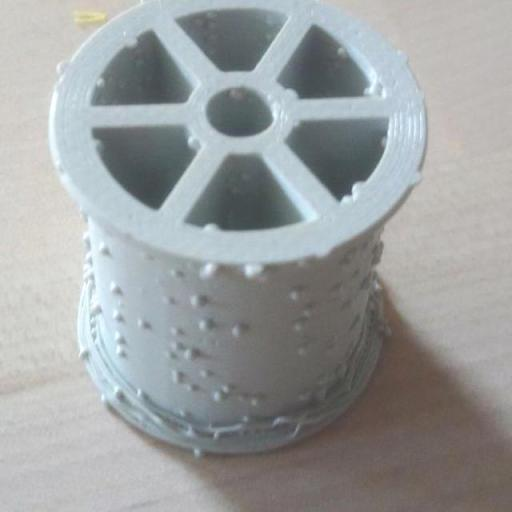blobs: (240, 256, 268, 279), (284, 284, 306, 304), (230, 317, 250, 337), (406, 170, 428, 188), (200, 261, 223, 278), (205, 388, 226, 406), (194, 318, 216, 335), (348, 179, 371, 195), (183, 132, 201, 152), (188, 288, 206, 308), (52, 56, 70, 76), (188, 444, 210, 460), (108, 384, 126, 401), (134, 312, 150, 330), (90, 75, 108, 91), (245, 394, 262, 410), (95, 238, 110, 256), (76, 230, 94, 245), (204, 219, 218, 237), (110, 328, 128, 342), (180, 346, 194, 364), (292, 320, 306, 338), (89, 302, 103, 319), (94, 388, 108, 405), (120, 36, 138, 49), (158, 294, 177, 306), (132, 386, 148, 400), (108, 279, 122, 294), (74, 344, 88, 359), (166, 370, 181, 384), (113, 346, 129, 359), (331, 46, 347, 59), (168, 323, 182, 337), (220, 382, 234, 396), (82, 248, 96, 262), (110, 309, 126, 321), (196, 368, 211, 380)
